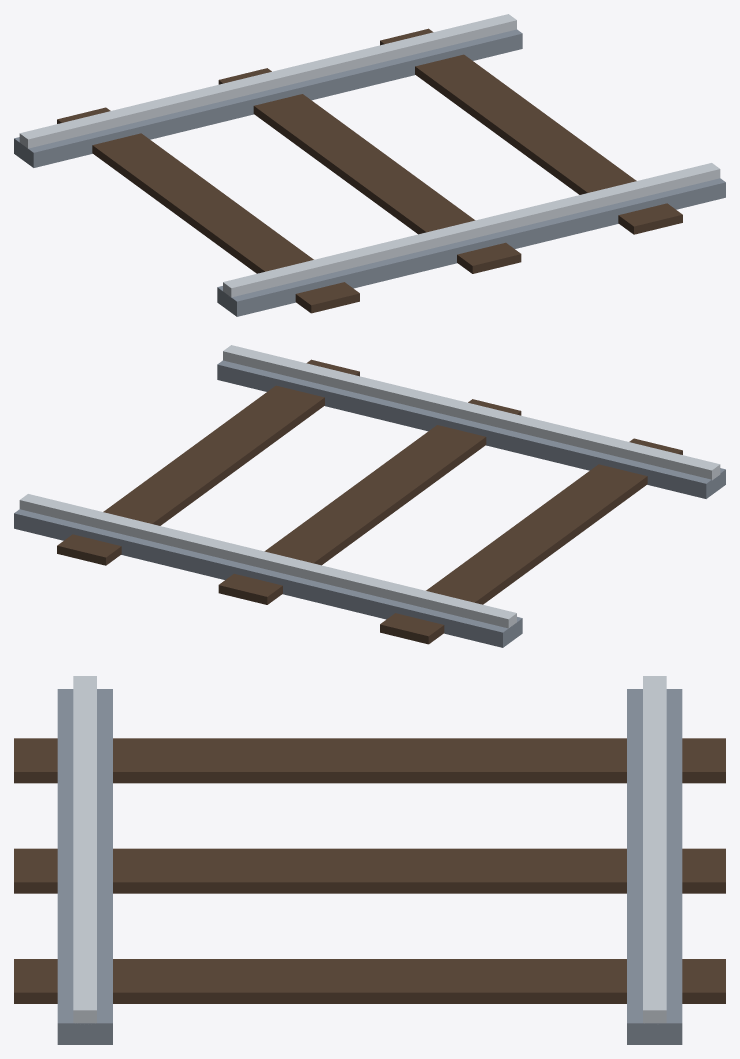
File: rail.glb
The picture shows the model from 3 angles, top to bottom: view 1: azimuth 30°, elevation 25°; view 2: azimuth 150°, elevation 25°; view 3: azimuth 270°, elevation 25°; orthographic projection. The views are drawn at different scales.
Visible parts, largest first — view 1: rail; view 2: rail; view 3: rail.
Part boxes in pixels (x1,y1,x2,y2): rail: [14, 14, 725, 316]; rail: [14, 345, 725, 647]; rail: [14, 676, 725, 1044].
Bounding box in the file's own units: 1 × 0.048 × 0.9.
